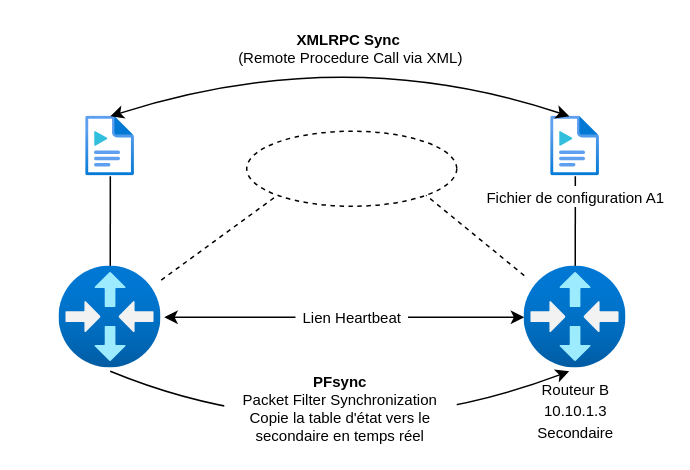
The diagram is 690 pixels wide and 470 high, and some of its shapes have lost their labels. Each missing label, with the centre of its shape:
"CARP utilisant une VIP 10.10.1.1" belongs at pixel 351 168.
"Fichier de configuration A" belongs at pixel 109 146.
"Routeur A 10.10.1.2 Principal" belongs at pixel 109 317.
